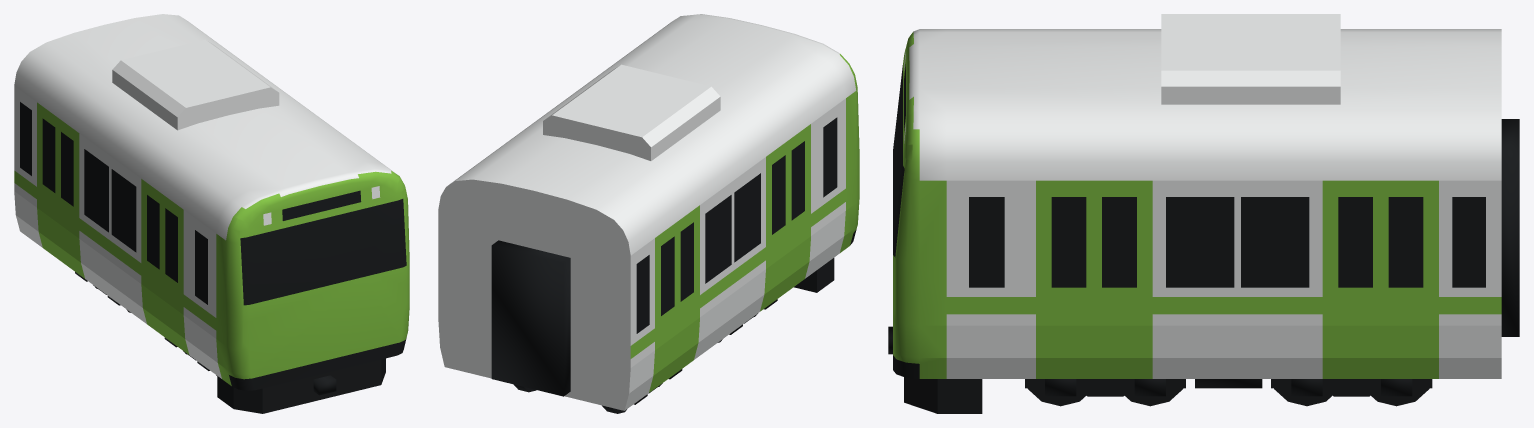
The model's file is E235_HeadCar.fbx.
3 renders of one model, left to right at view 1: azimuth 30°, elevation 25°; view 2: azimuth 150°, elevation 25°; view 3: azimuth 270°, elevation 25°, orthographic. The views are drawn at different scales.
Visible parts, largest first — view 1: E235_HeadCar; view 2: E235_HeadCar; view 3: E235_HeadCar, E235_HeadCar_Bogie_Rear, E235_HeadCar_Bogie_Front.
Boxes of the visible parts, x1=… form: E235_HeadCar: x1=14, y1=14, x2=409, y2=413; E235_HeadCar: x1=438, y1=14, x2=859, y2=410; E235_HeadCar: x1=888, y1=14, x2=1519, y2=413; E235_HeadCar_Bogie_Rear: x1=1271, y1=379, x2=1432, y2=406; E235_HeadCar_Bogie_Front: x1=1025, y1=379, x2=1185, y2=406.
Size of the model in its own units: 1.28 by 1.64 by 2.82.
